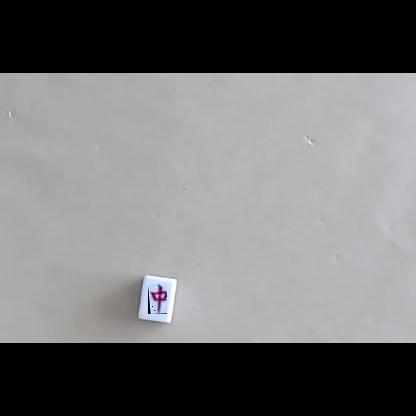7z: (148, 284, 167, 314)
